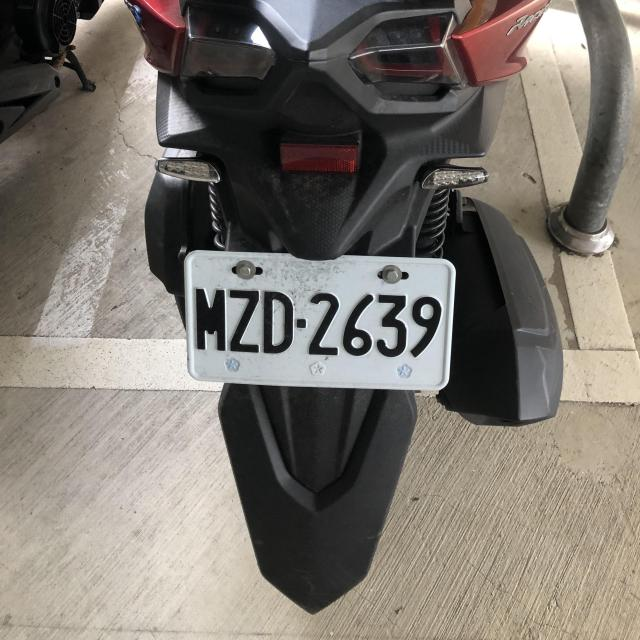W: (178, 249, 455, 392)
